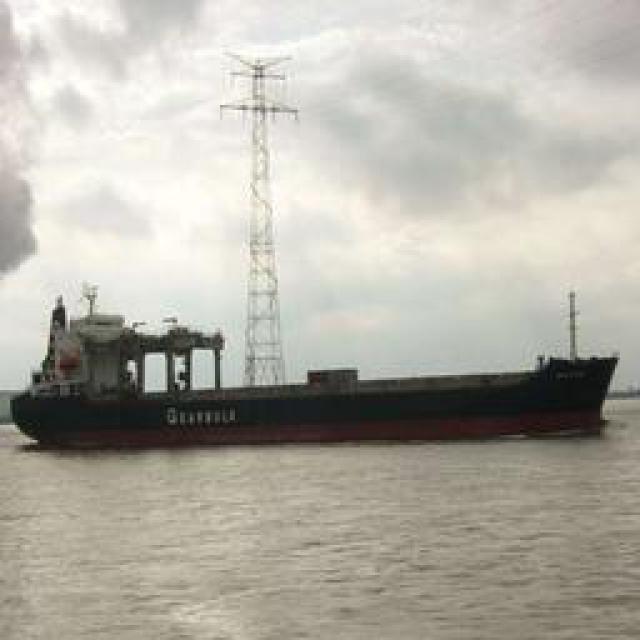Ship: (13, 336, 611, 449)
